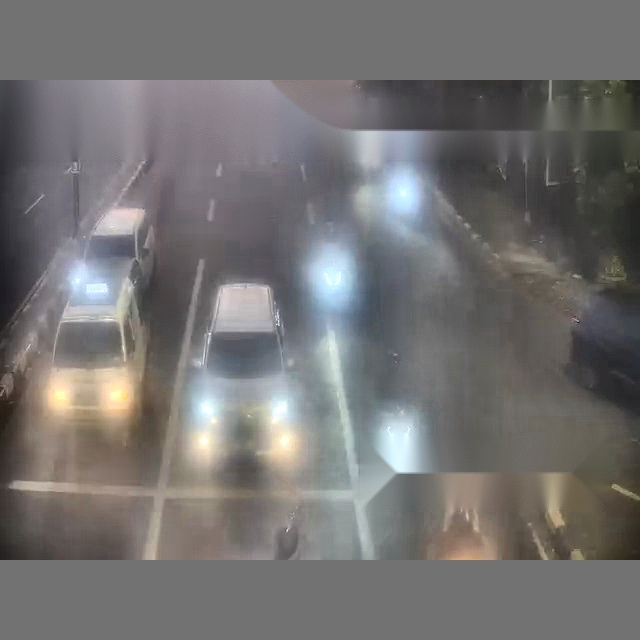Mobil: (191, 284, 293, 460), (570, 283, 639, 396), (78, 207, 154, 294)
